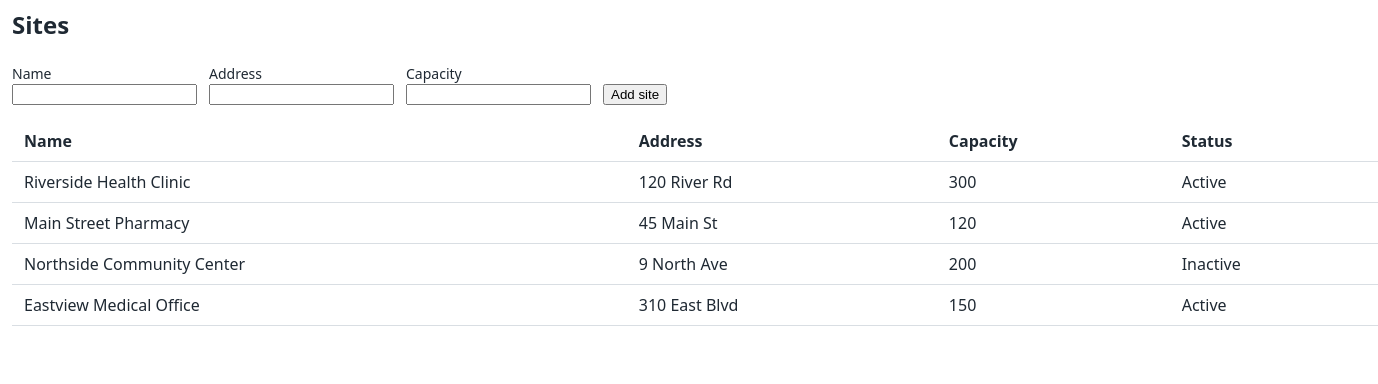
adding a site puts a new active row in the table
Step 1. Type "New Clinic" into the field labelled "Name" → (104, 94), box 12,84 -> 197,105
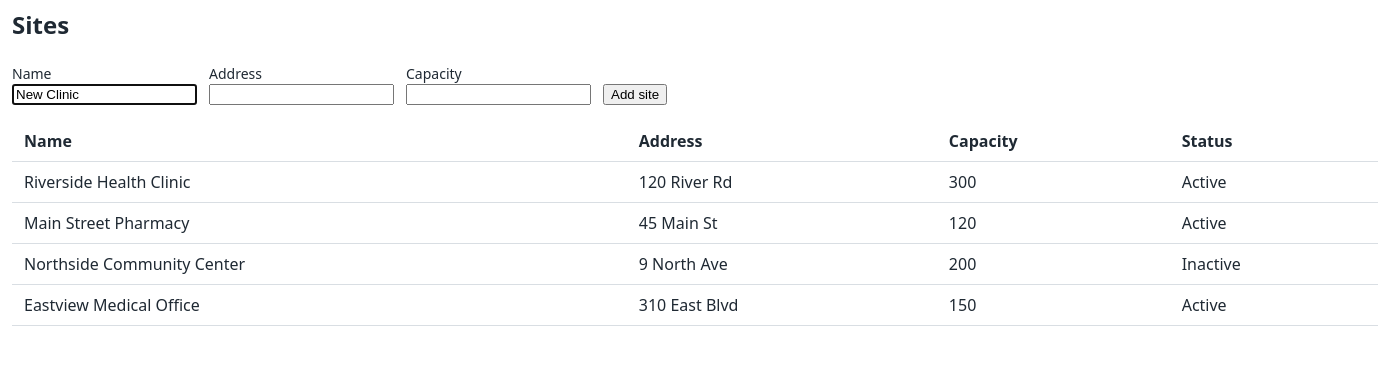
Step 2. Type "5 New St" into the field labelled "Address" → (302, 94), box 209,84 -> 394,105
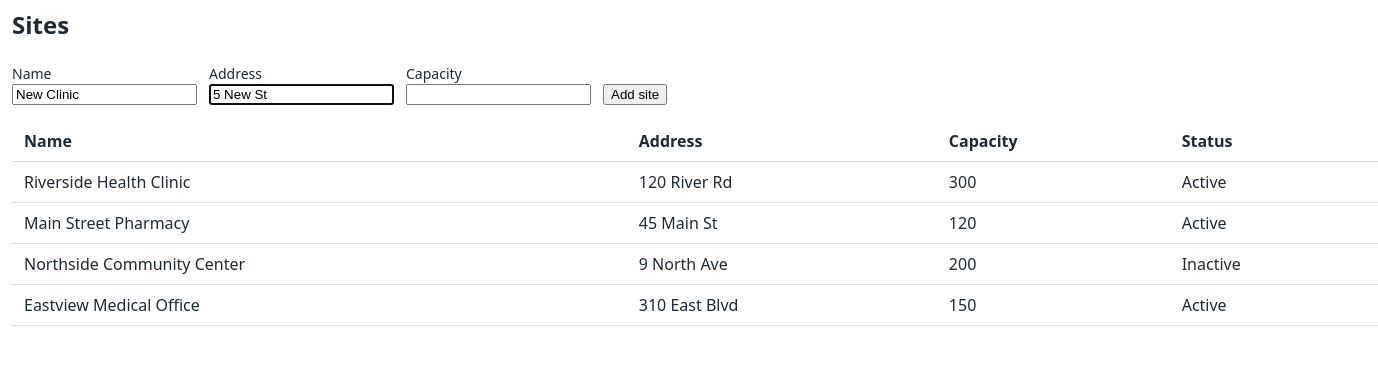
Step 3. Type "80" into the number field labelled "Capacity" → (498, 94), box 406,84 -> 591,105
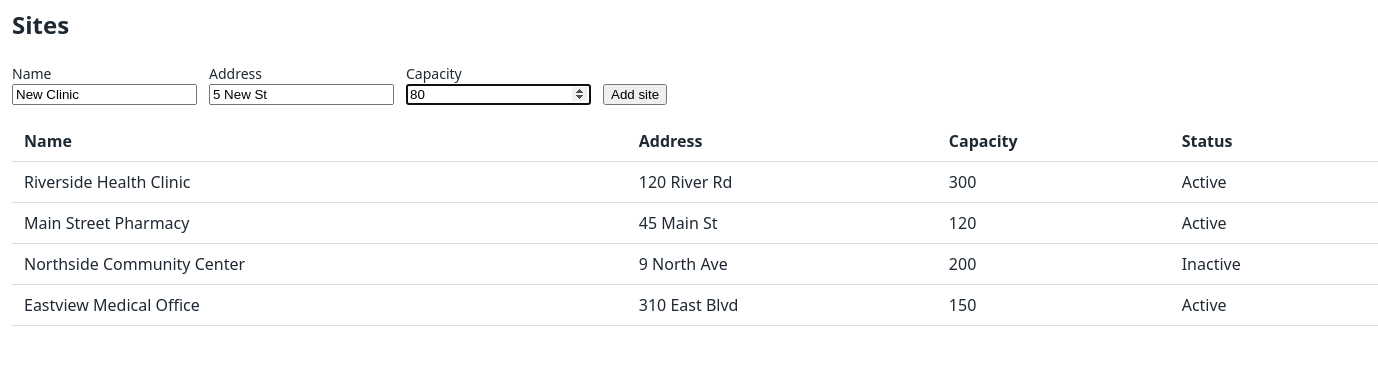
Step 4. Click the button "Add site" → (635, 94), box 603,84 -> 667,105
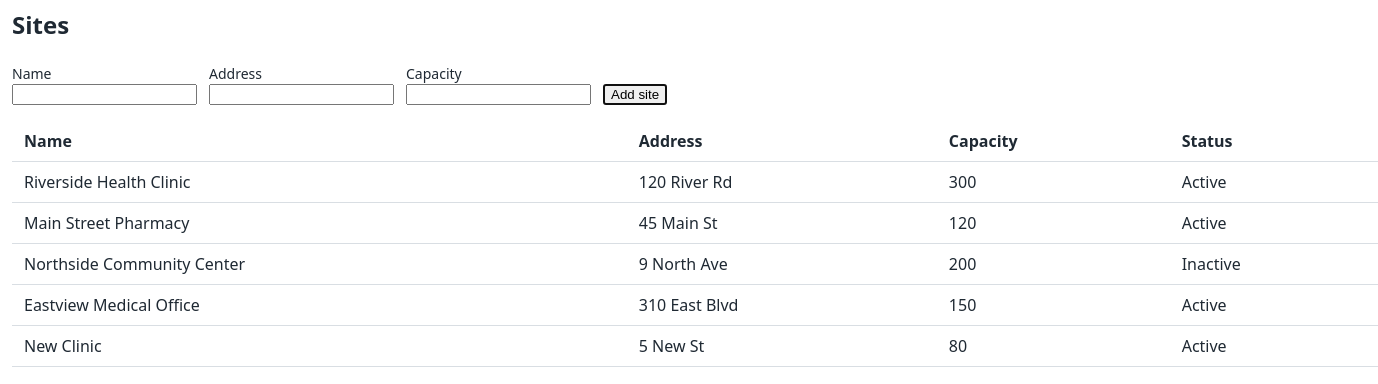
expect the number of rows is 6: met, box 12,121 -> 1377,161; 12,161 -> 1377,202; 12,202 -> 1377,243; 12,243 -> 1377,284; 12,284 -> 1377,325; 12,325 -> 1377,366
expect the text "Active" in the row of "New Clinic" is shown: met, box 1182,335 -> 1227,357
